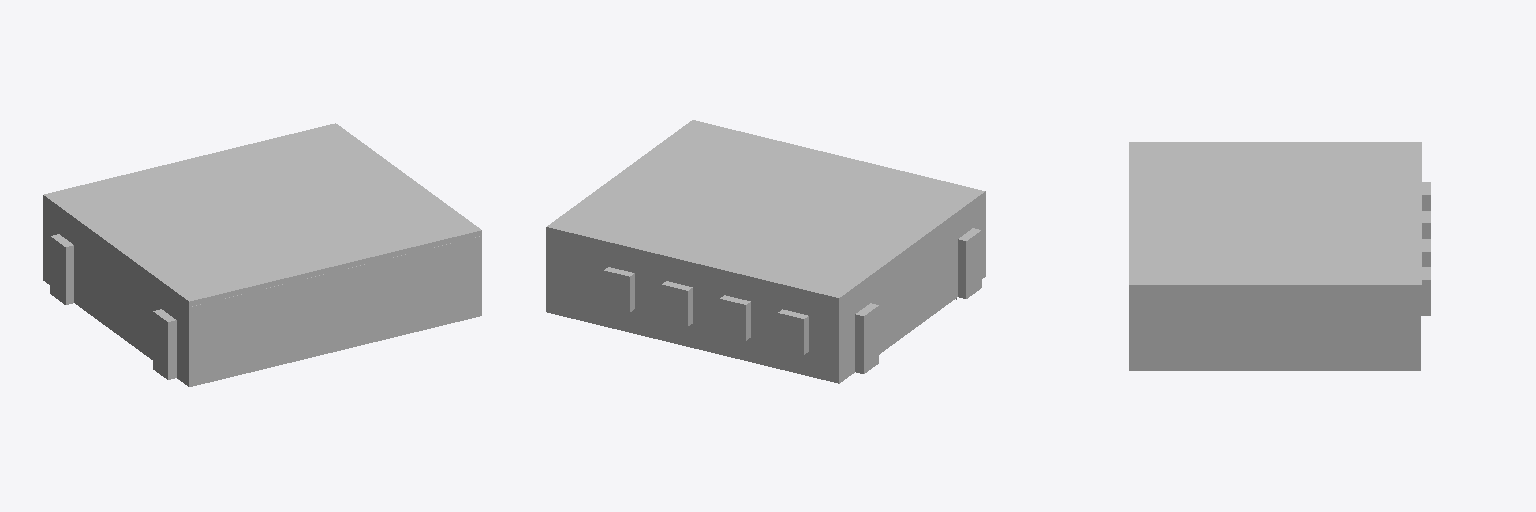
Rendered from CBA_ruimte_rgb.obj.
The picture shows the model from 3 angles: view 1: azimuth 30°, elevation 25°; view 2: azimuth 150°, elevation 25°; view 3: azimuth 270°, elevation 25°; orthographic projection.
Parts seen in each view (by area): view 1: Cube, Room, CTRL_Hole.005_CTRL_Hole.012, CTRL_Hole.004_CTRL_Hole.011; view 2: Cube, Room, CTRL_Hole.005_CTRL_Hole.012, CTRL_Hole.004_CTRL_Hole.011, CTRL_Hole_CTRL_Hole.007, CTRL_Hole.002_CTRL_Hole.009, CTRL_Hole.003_CTRL_Hole.010, CTRL_Hole.001_CTRL_Hole.008; view 3: Cube, Room.
Part boxes in pixels (x1,y1,x2,y2): Cube: (43,123,481,306); Room: (43,200,481,386); CTRL_Hole.005_CTRL_Hole.012: (50,234,73,304); CTRL_Hole.004_CTRL_Hole.011: (153,309,176,379); Cube: (546,120,985,303); Room: (546,197,985,383); CTRL_Hole.005_CTRL_Hole.012: (855,303,878,373); CTRL_Hole.004_CTRL_Hole.011: (958,228,981,298); CTRL_Hole_CTRL_Hole.007: (778,309,808,354); CTRL_Hole.002_CTRL_Hole.009: (662,281,692,326); CTRL_Hole.003_CTRL_Hole.010: (604,267,634,312); CTRL_Hole.001_CTRL_Hole.008: (720,295,750,340); Cube: (1129,142,1421,290); Room: (1129,291,1420,370).
Bounding box in the file's own units: 11.43 × 3.2 × 9.92.